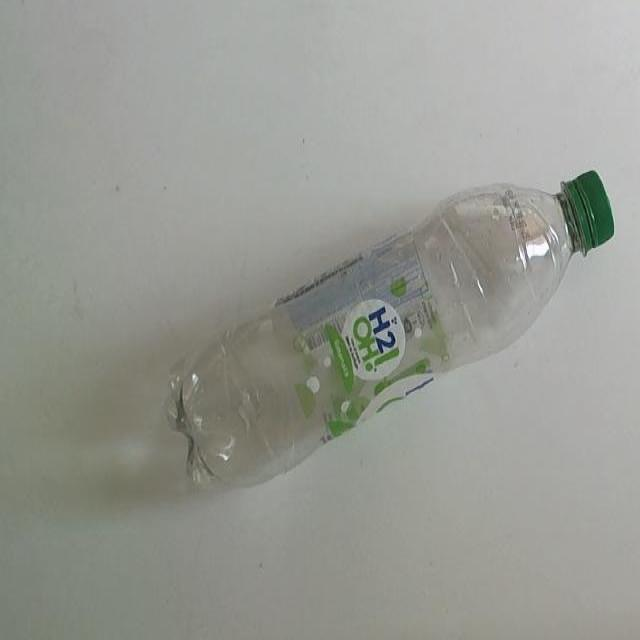non-defect: (163, 167, 617, 501)
